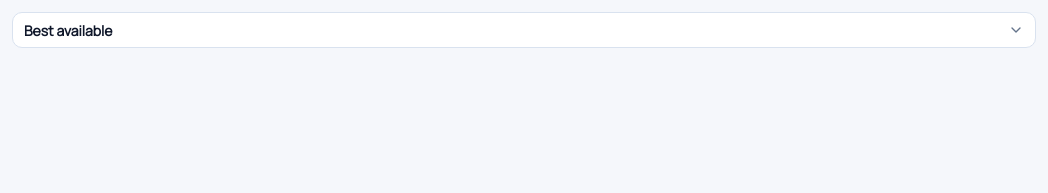
Test case: custom Select › opens, supports keyboard navigation and selects an option
Click the dropdown named "Quality": (68, 30) [12,12,1036,48]
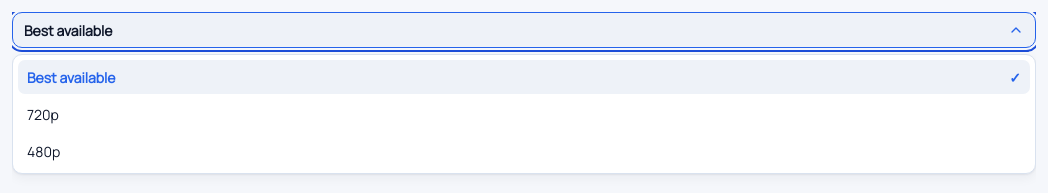
Result: the dropdown named "Quality" is expanded at [12,12,1036,48]
Press Arrowdown Enter
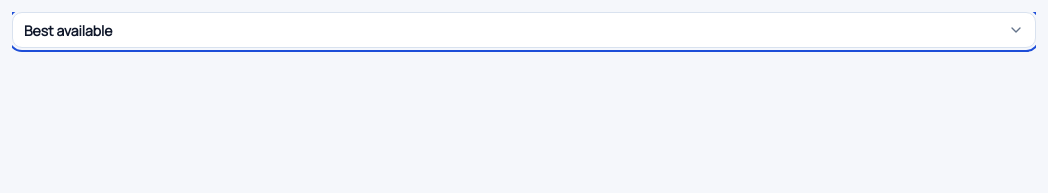
Result: the dropdown named "Quality" is collapsed at [12,12,1036,48]
